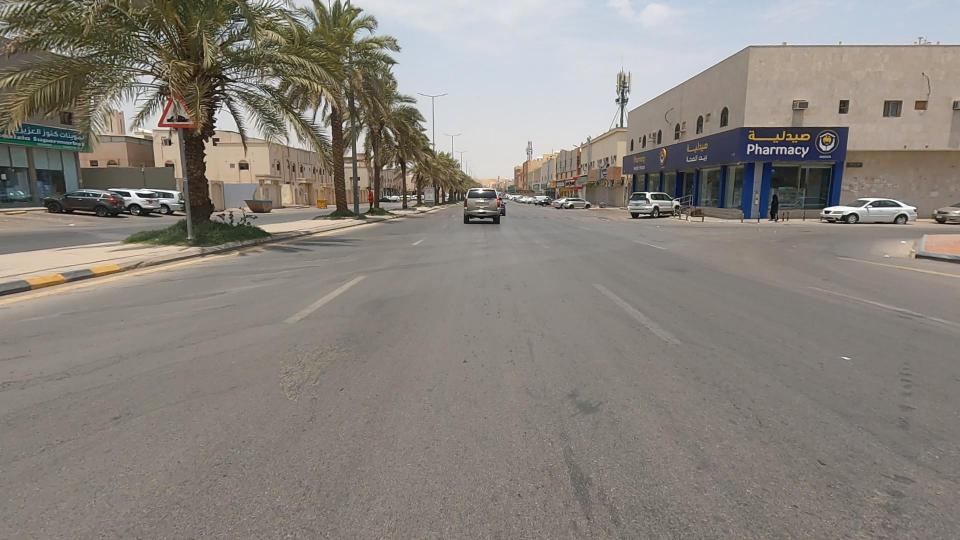BAD_BILLBOARD: (585, 148, 643, 192), (573, 153, 611, 195)
